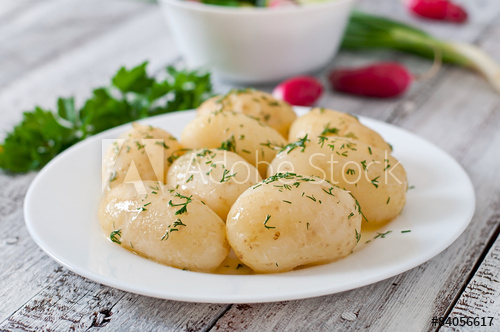boiled potatoes: (96, 104, 419, 269)
